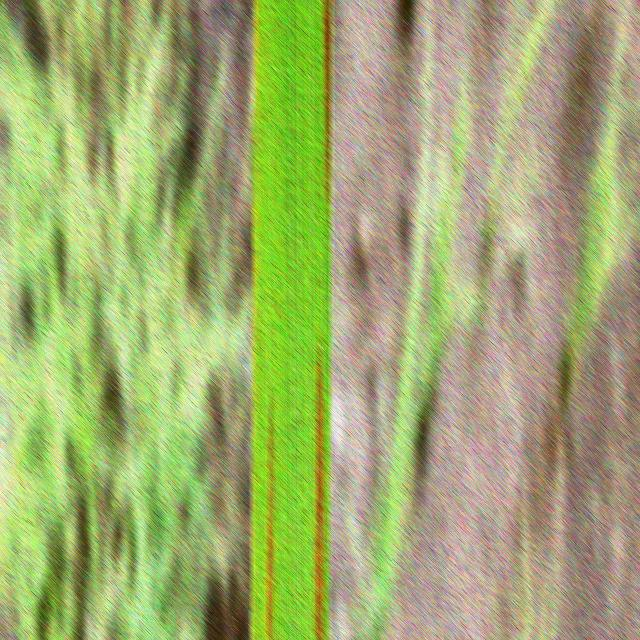NBS: (314, 313, 324, 640), (314, 337, 324, 640), (322, 0, 331, 205), (266, 390, 273, 640)
